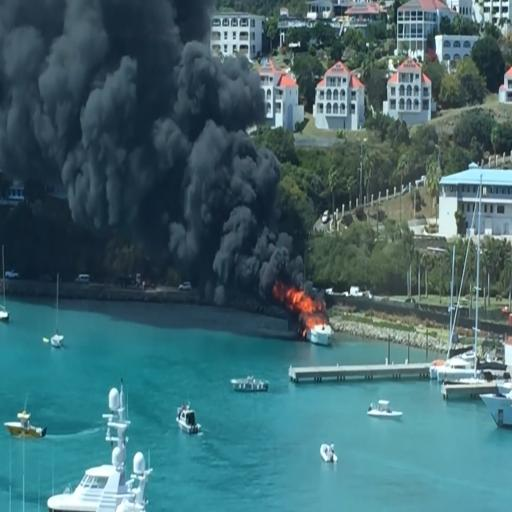smoke: (0, 0, 186, 201), (159, 61, 252, 280), (246, 234, 298, 296)
